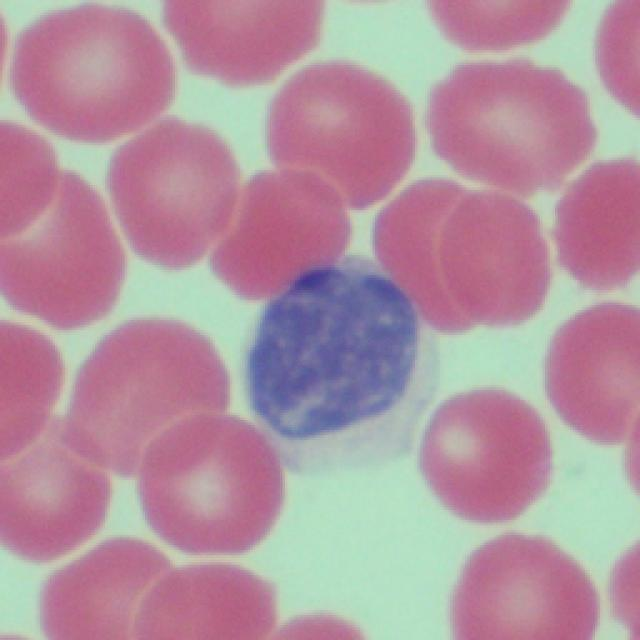RBC: (63, 312, 214, 486), (380, 182, 539, 346), (418, 53, 586, 202), (266, 56, 411, 220), (0, 130, 113, 338), (127, 411, 283, 559), (13, 0, 165, 148), (106, 108, 237, 274), (410, 374, 542, 526), (218, 154, 356, 294), (450, 527, 600, 640), (43, 536, 188, 640), (538, 298, 638, 446), (0, 429, 110, 559), (158, 0, 317, 89), (551, 156, 640, 291), (135, 564, 284, 636), (0, 318, 66, 460), (417, 0, 575, 50), (587, 0, 640, 117), (607, 519, 640, 638)
WBC: (250, 257, 426, 452)
